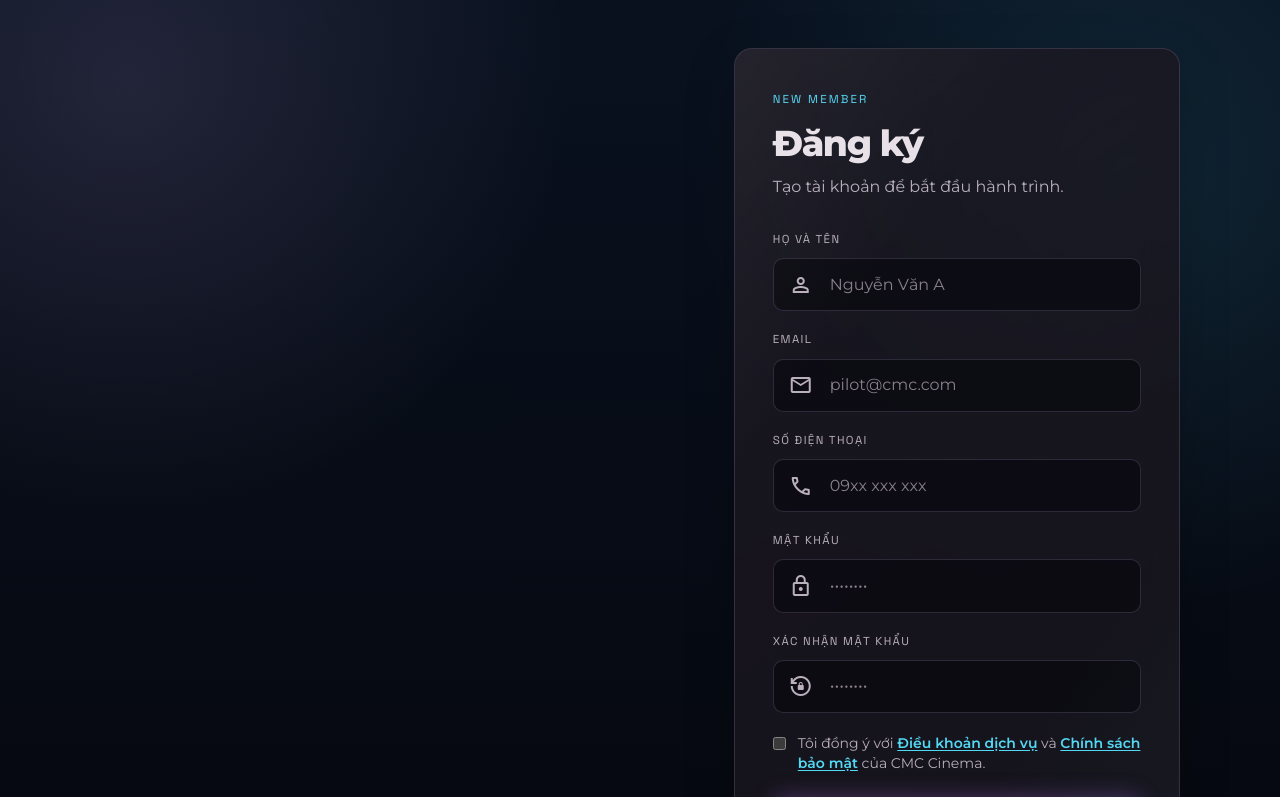
it: Login/register UI › đăng ký thành công với dữ liệu đã loại bỏ khoảng trắng
The image size is (1280, 797).
Type "  Nguyễn Văn B  " into the field labelled "Họ và tên" at coordinates (957, 285), box [773,258,1141,311]
Type "  member@cmc.com  " into the field labelled "Email" at coordinates (957, 385), box [773,359,1141,412]
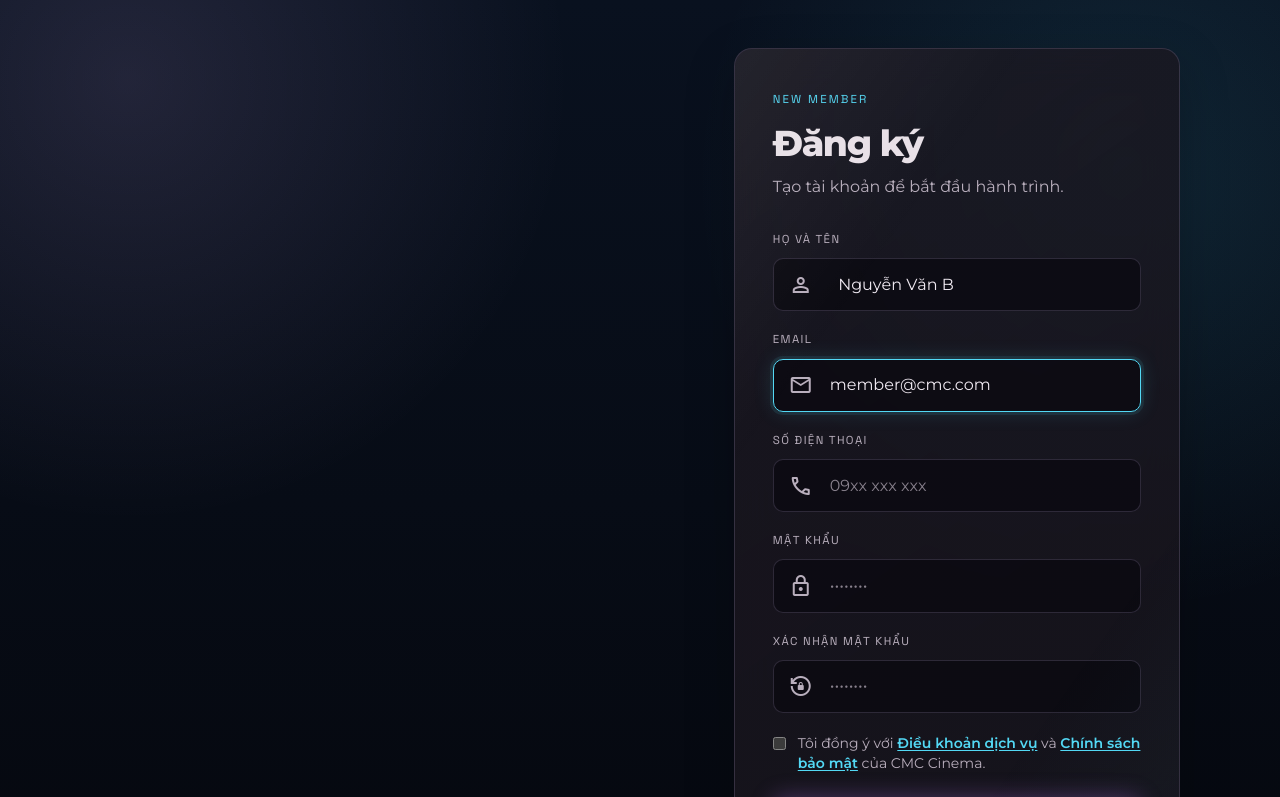
Type "  0912345678  " into the field labelled "Số điện thoại" at coordinates (957, 486), box [773,459,1141,512]
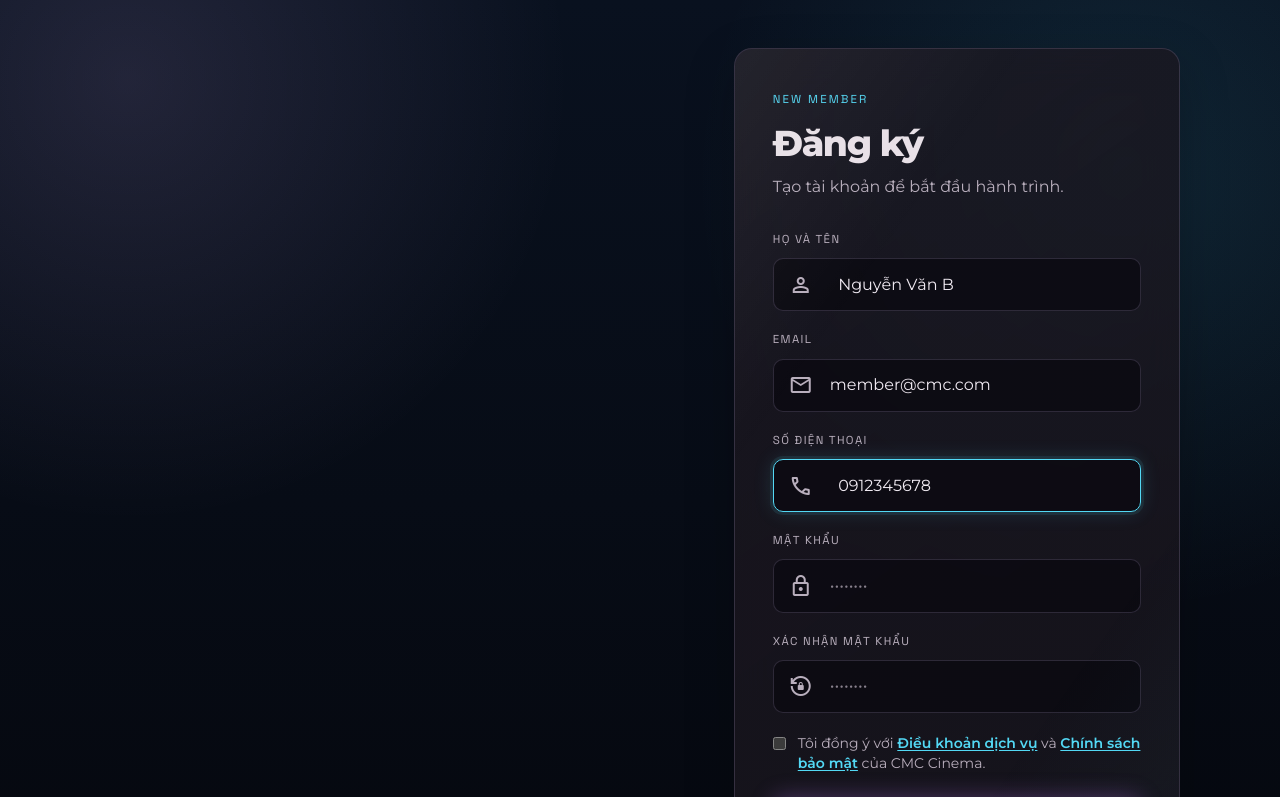
Type "123456" into the password field labelled "Mật khẩu" at coordinates (957, 586), box [773,559,1141,612]
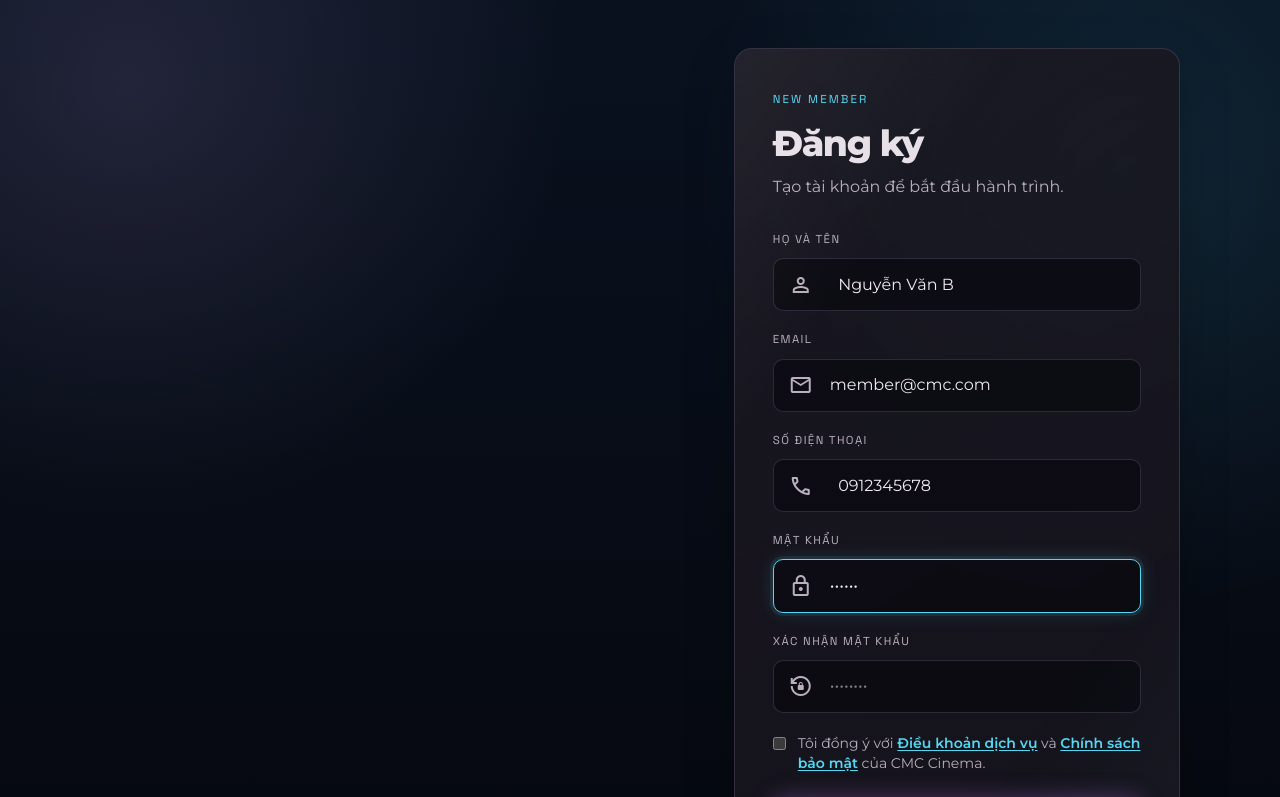
Type "123456" into the password field labelled "Xác nhận mật khẩu" at coordinates (957, 686), box [773,660,1141,713]
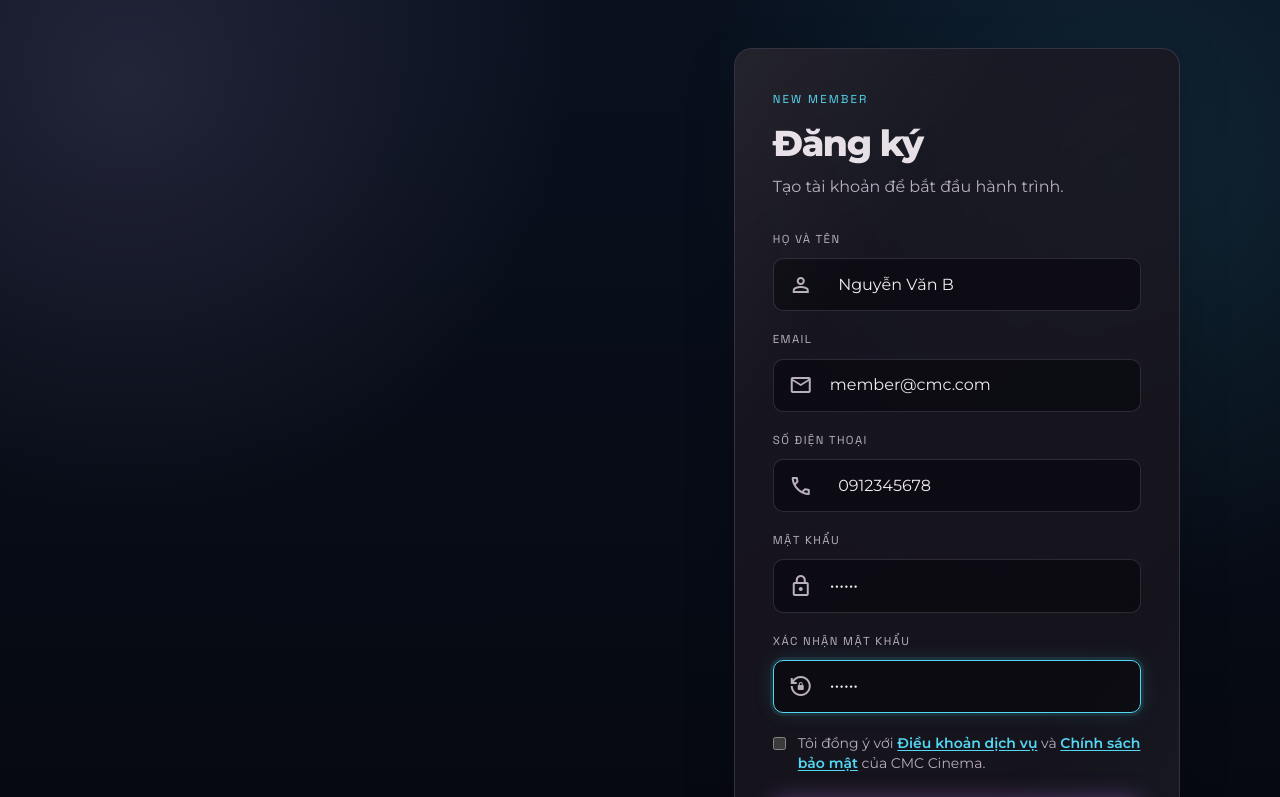
Click the checkbox at coordinates (779, 743), box [773,737,786,750]
(page scrolled)
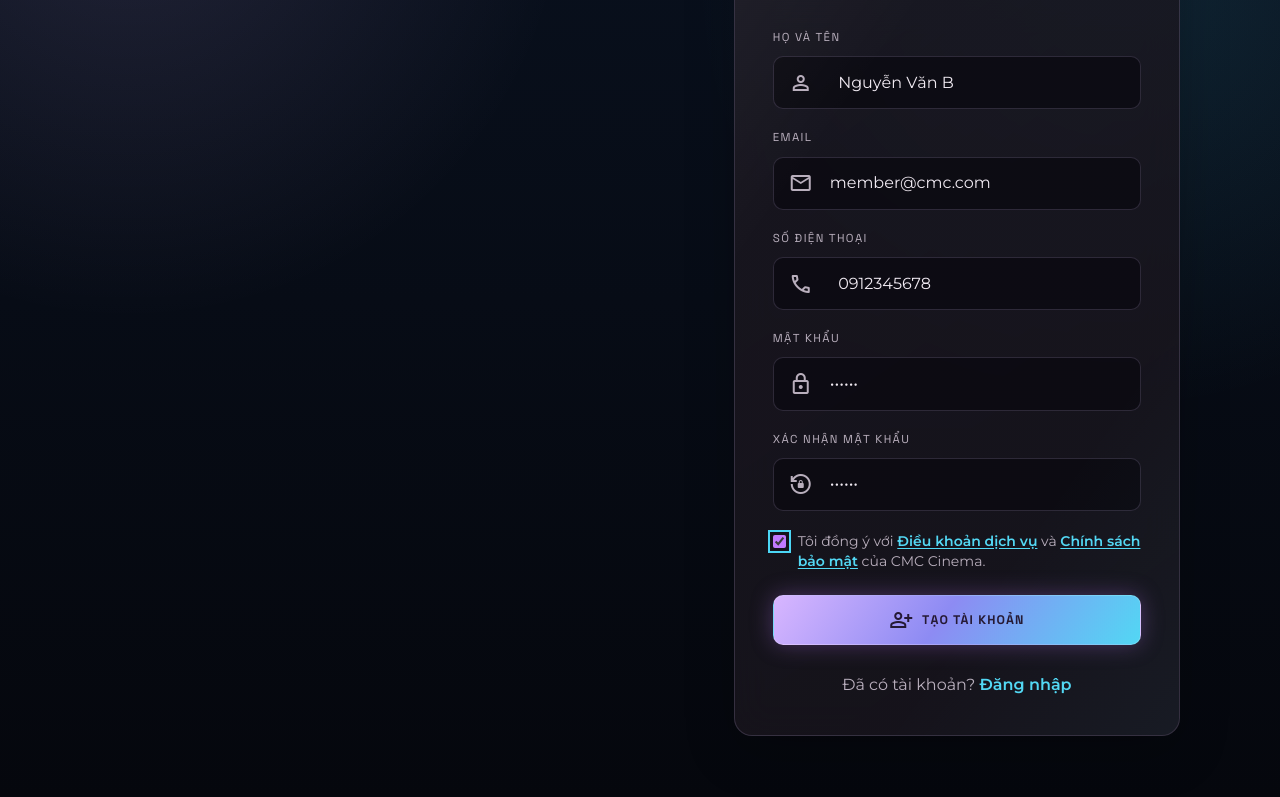
Click the button "Tạo tài khoản" at coordinates (957, 620), box [773,595,1141,645]
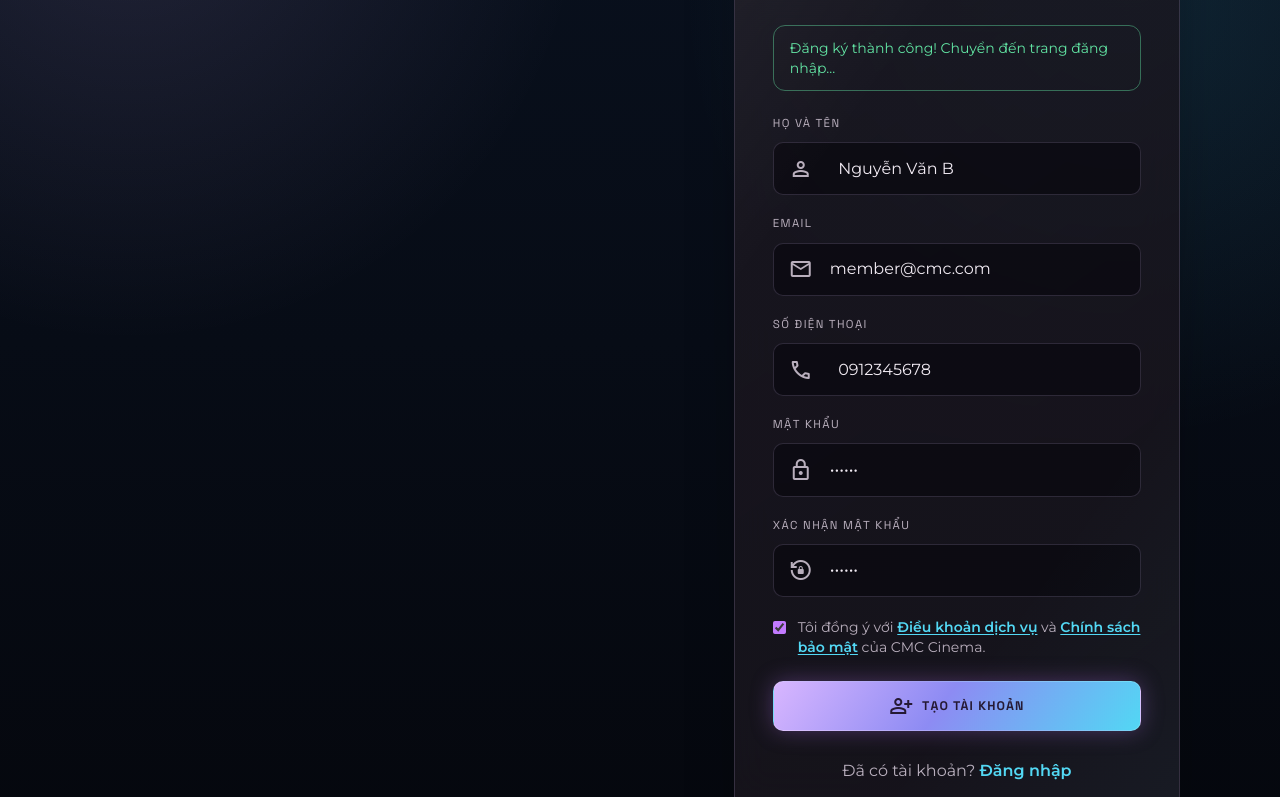
Check: the text "Đăng ký thành công! Chuyển đến trang đăng nhập..." is shown, box [773,25,1141,91]
